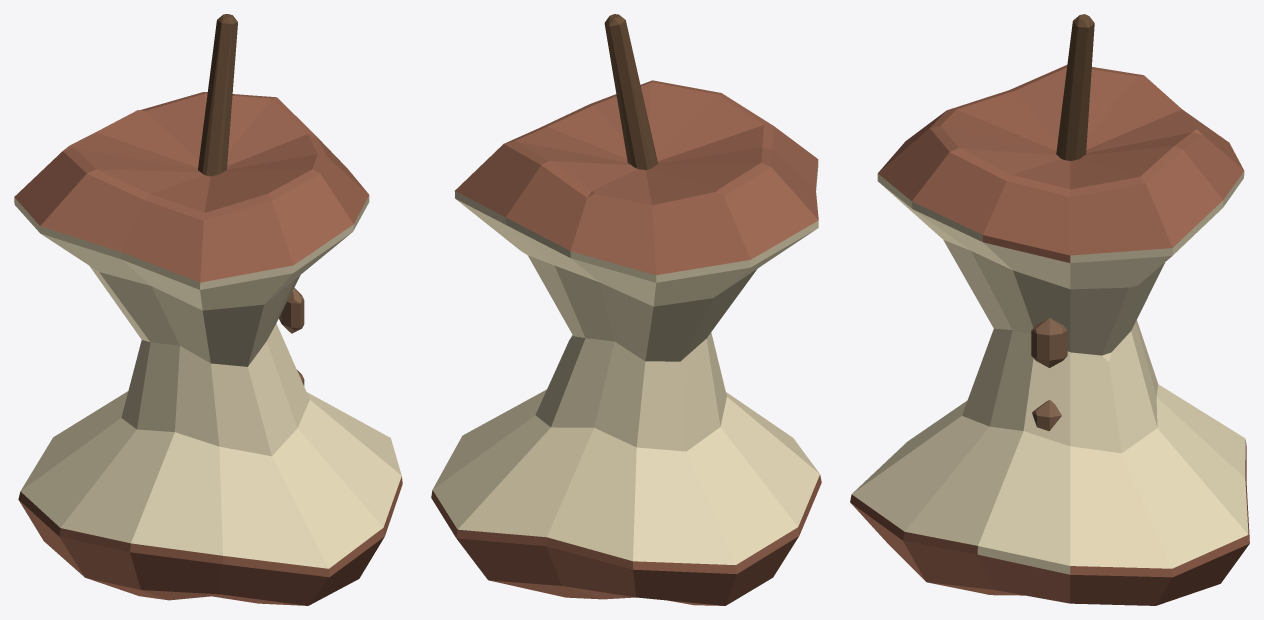
File: b16_discarded_apple_core.glb
3 renders of one model, left to right at view 1: azimuth 30°, elevation 25°; view 2: azimuth 150°, elevation 25°; view 3: azimuth 270°, elevation 25°, orthographic. The views are drawn at different scales.
Visible parts, largest first — view 1: b16_discarded_apple_core; view 2: b16_discarded_apple_core; view 3: b16_discarded_apple_core.
Part boxes in pixels (x1=…): b16_discarded_apple_core: x1=14, y1=14, x2=402, y2=605; b16_discarded_apple_core: x1=431, y1=14, x2=821, y2=605; b16_discarded_apple_core: x1=850, y1=14, x2=1249, y2=605.
Bounding box in the file's own units: 0.0603 × 0.0911 × 0.0575.
